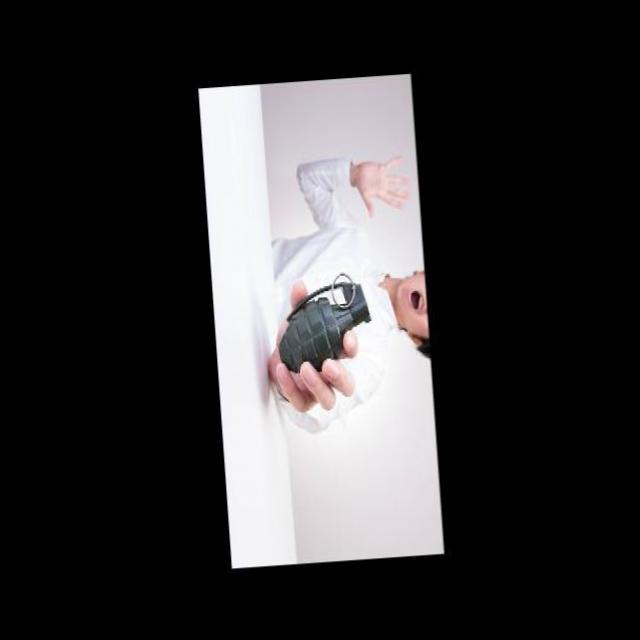grenade: (268, 266, 378, 404)
